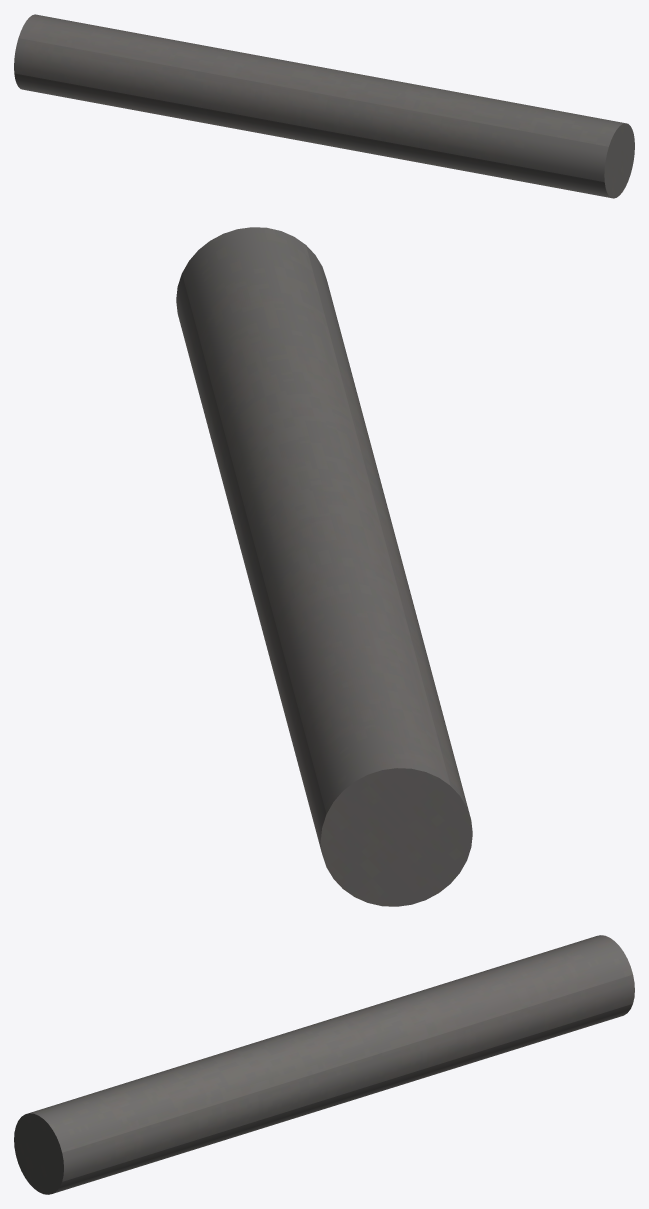
Rendered from base_frame__rear_leg_0.glb.
3 views of the same model, one above another, from view 1: azimuth 30°, elevation 25°; view 2: azimuth 150°, elevation 25°; view 3: azimuth 270°, elevation 25° (orthographic). The views are drawn at different scales.
Parts seen in each view (by area): view 1: world; view 2: world; view 3: world.
Part boxes in pixels (bbox=[...]): world: bbox=[14, 14, 634, 198]; world: bbox=[176, 227, 472, 906]; world: bbox=[14, 935, 634, 1194].
Bounding box in the file's own units: 0.2786 × 0.048 × 0.3535.
1 material, 1 textured.
